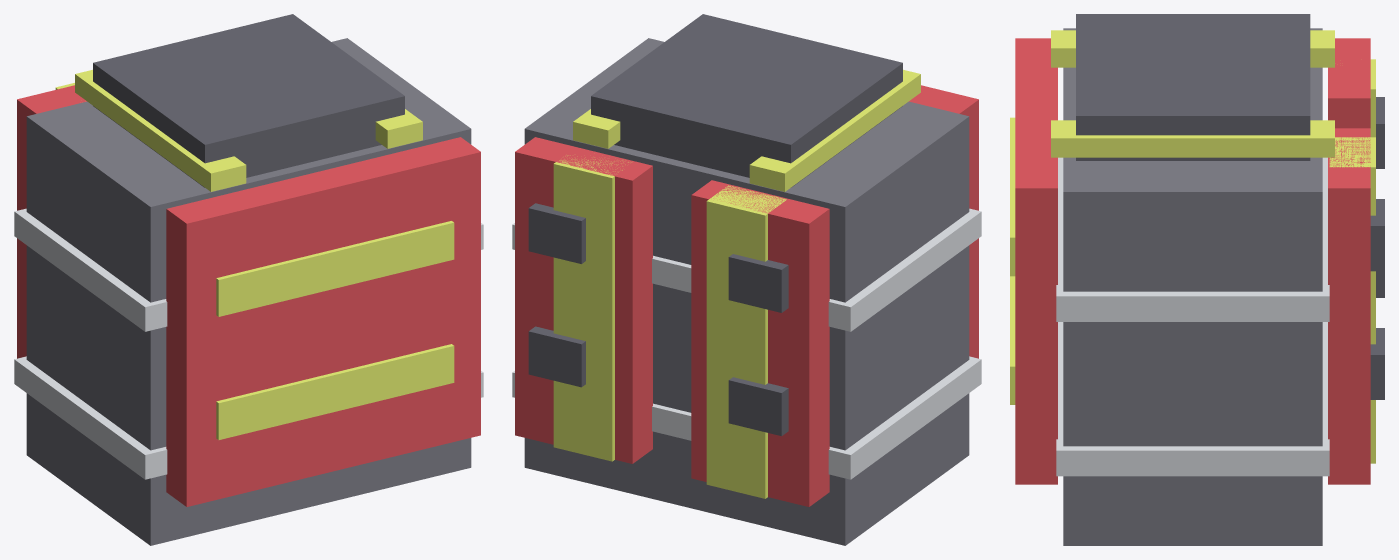
The model's file is bombeiro_resgate_tronco.glb.
3 views of the same model, side by side, from view 1: azimuth 30°, elevation 25°; view 2: azimuth 150°, elevation 25°; view 3: azimuth 270°, elevation 25° (orthographic). The views are drawn at different scales.
Visible parts, largest first — view 1: bombeiro_resgate_tronco; view 2: bombeiro_resgate_tronco; view 3: bombeiro_resgate_tronco.
Part boxes in pixels (x1,y1,x2,y2): bombeiro_resgate_tronco: (14,14,483,545); bombeiro_resgate_tronco: (512,14,981,545); bombeiro_resgate_tronco: (1010,14,1384,545).
Size of the model in its own units: 0.575 by 0.62 by 0.5275.
